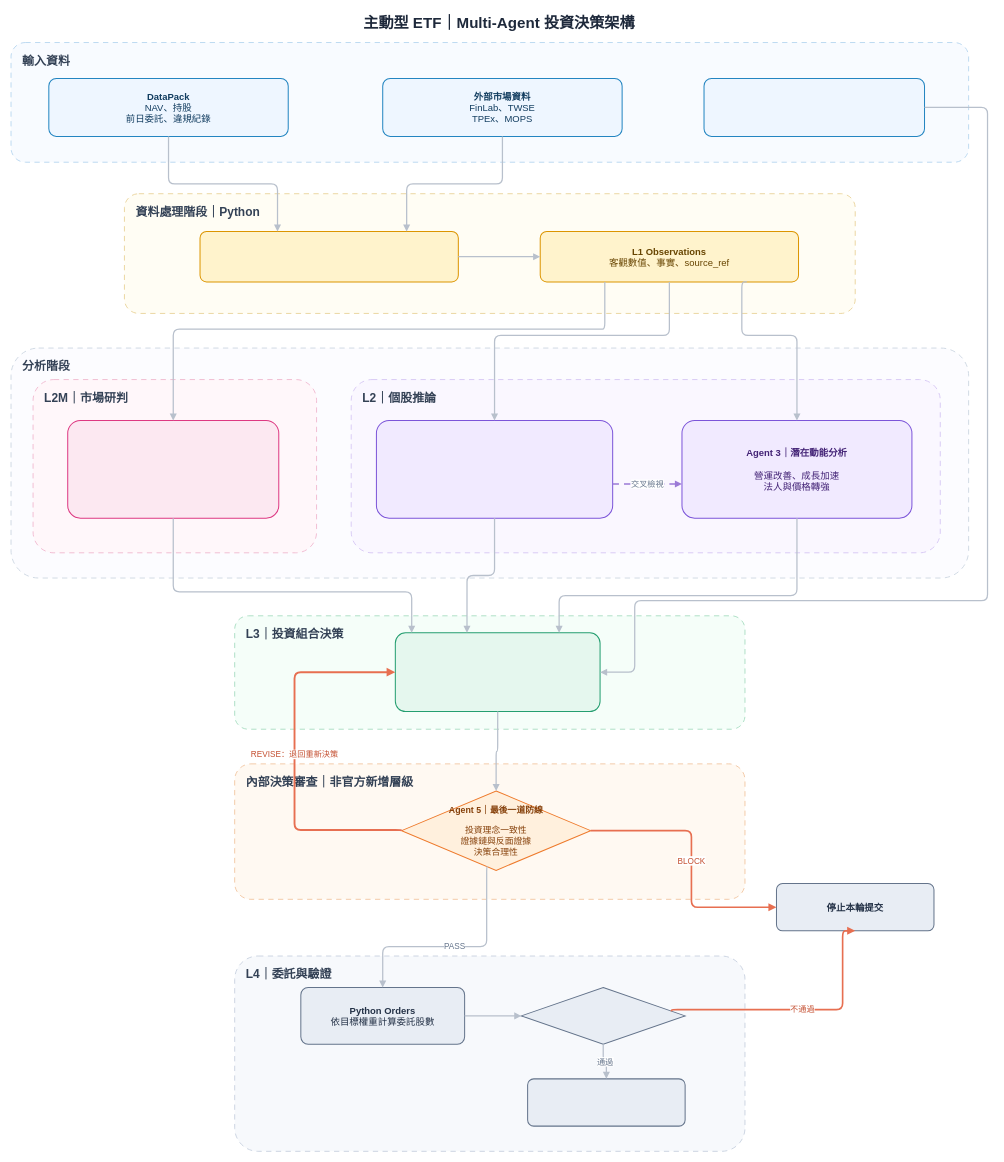
The diagram is 1004 pixels wide and 1162 high, and some of its shapes have lost their labels. Each missing label, with the centre of its shape:
Agent 1｜市場環境分析 市場風險與趨勢 資金環境 股票曝險及現金方向: pixel 173 469
Agent 2｜企業品質與成長分析 營運品質、獲利與競爭力 成長持續性: pixel 494 469
Agent 4｜ETF 基金經理人 整合市場與個股推論 BUY / ADD / TRIM / SELL 目標權重及不交易理由: pixel 497 672
ETF 投資理念 品質＋改善 潛在成長動能: pixel 814 107
L0 Sources 來源 ID、機構、網址、資料時間: pixel 329 256
Python Validator JSON 與交易規則檢查: pixel 603 1015
玉山平台 檢核與執行: pixel 606 1102
